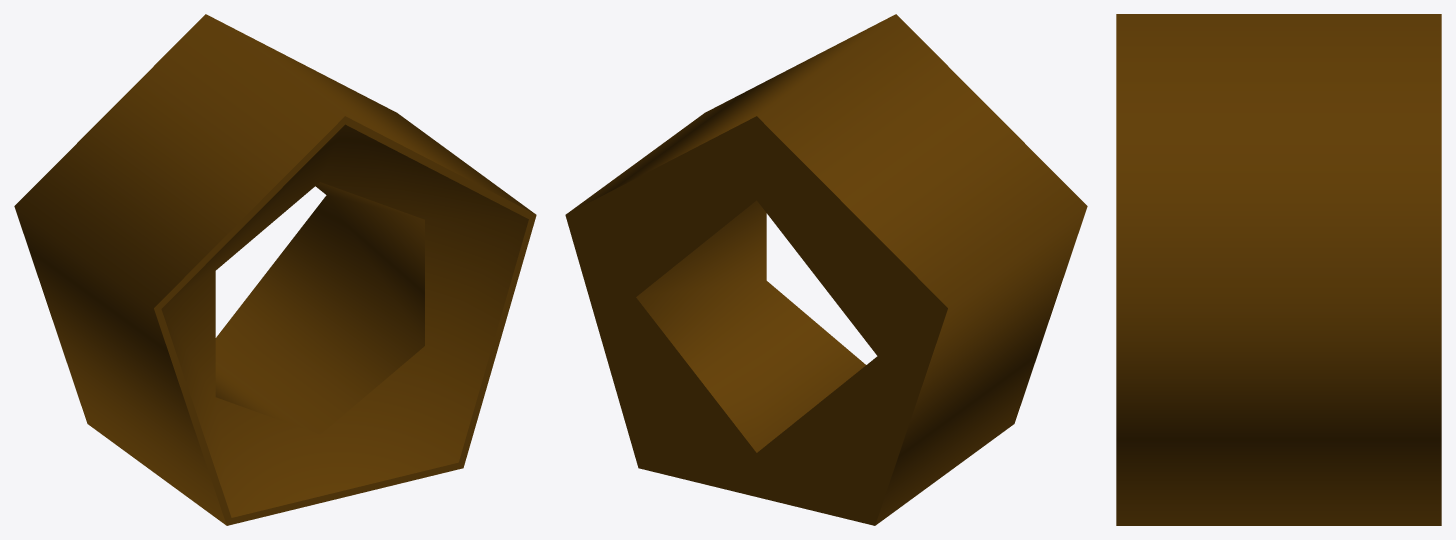
Rendered from Pallier_Pont Grande detente.obj.
3 views of the same model, side by side, from view 1: azimuth 30°, elevation 25°; view 2: azimuth 150°, elevation 25°; view 3: azimuth 270°, elevation 25° (orthographic). The views are drawn at different scales.
Visible parts, largest first — view 1: Face_4, Face_2, Face_5, Face_3; view 2: Face_4, Face_1, Face_5; view 3: Face_4.
Part boxes in pixels (left/top/right/bottom): Face_4: left=14, top=14, right=534, bottom=525; Face_2: left=161, top=124, right=528, bottom=517; Face_5: left=215, top=182, right=424, bottom=434; Face_3: left=154, top=116, right=536, bottom=525; Face_4: left=567, top=14, right=1087, bottom=525; Face_1: left=565, top=116, right=947, bottom=525; Face_5: left=636, top=200, right=865, bottom=452; Face_4: left=1116, top=14, right=1441, bottom=525.
Bounding box in the file's own units: 0.00476 × 0.00452 × 0.003.
